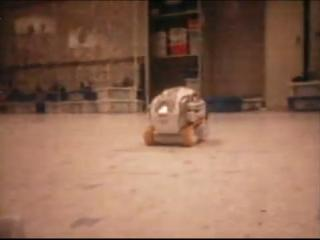cozmo: (143, 84, 208, 146)
